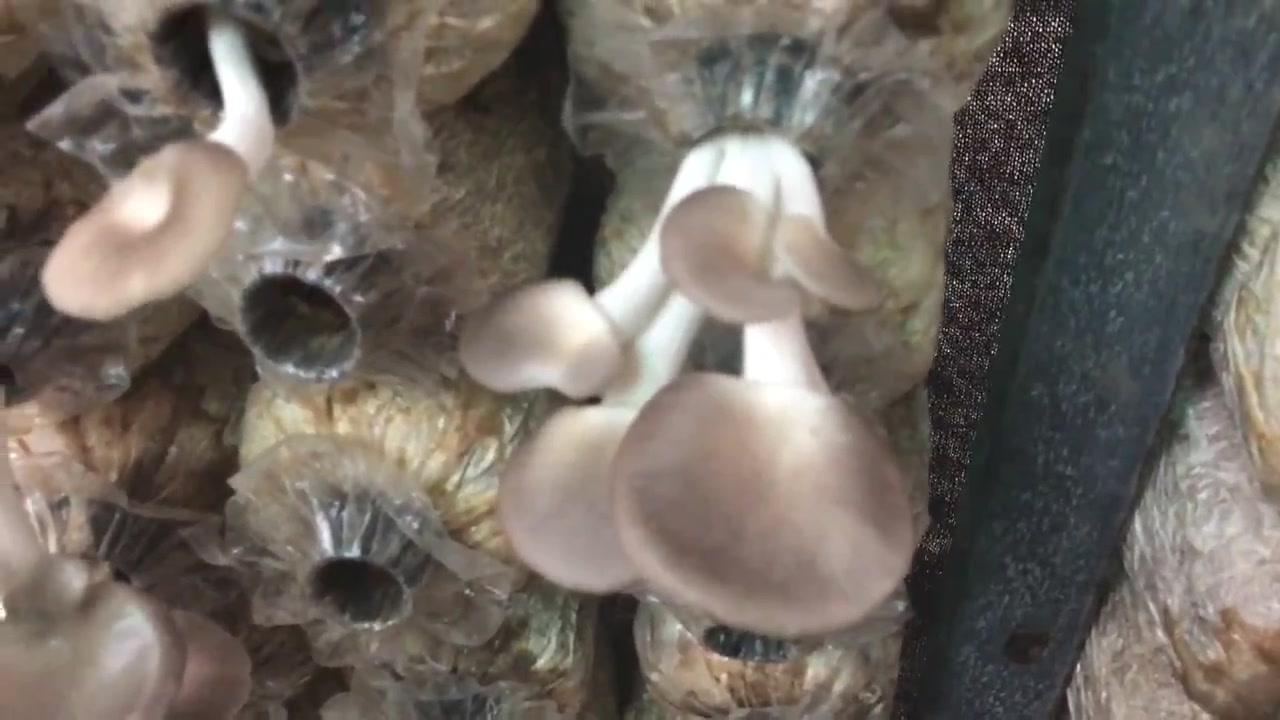nam: (466, 74, 911, 634), (40, 1, 317, 317), (1, 468, 248, 716)
